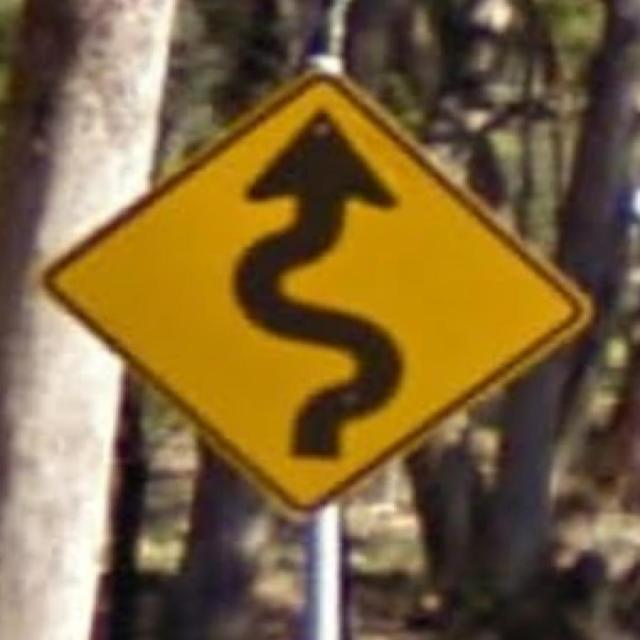Banyak Tikungan Pertama Kanan: (34, 61, 592, 516)
